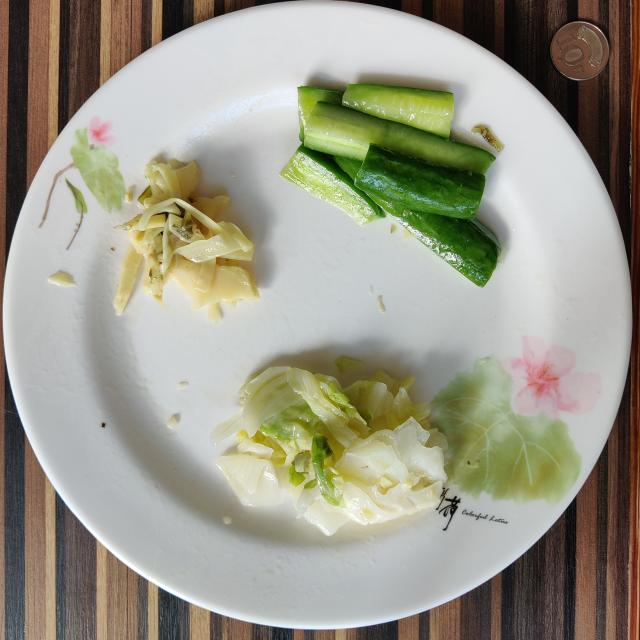cabbage: (211, 366, 448, 535)
coin: (550, 21, 609, 80)
cucumber: (280, 84, 500, 286)
